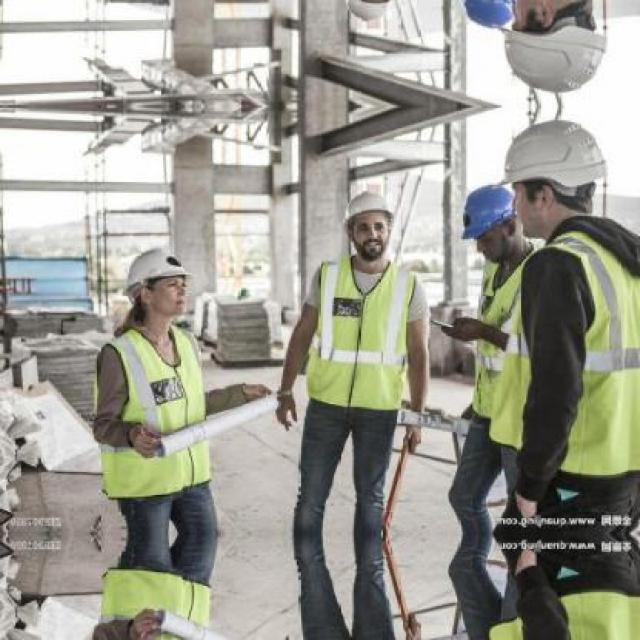reflective_jacket: (469, 229, 638, 485), (84, 324, 227, 503), (290, 254, 427, 420), (457, 246, 544, 447)
safety_helmet: (488, 115, 617, 202), (112, 239, 199, 302), (447, 180, 526, 248), (332, 178, 401, 231)
